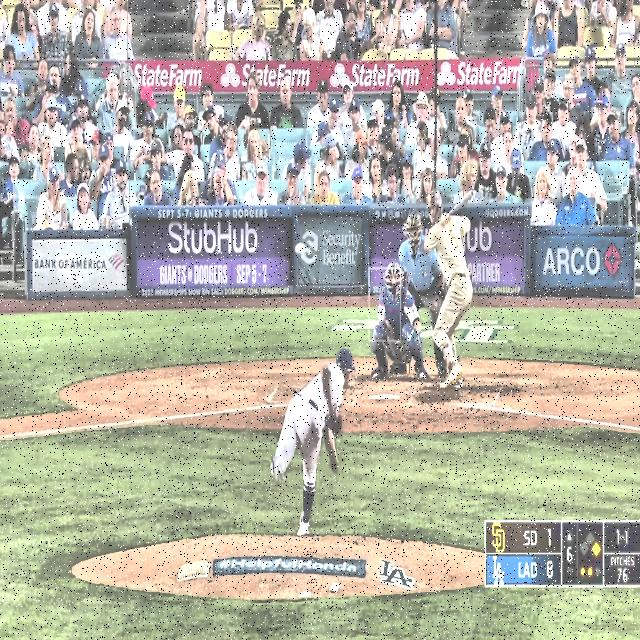baseball: (295, 243, 304, 254)
